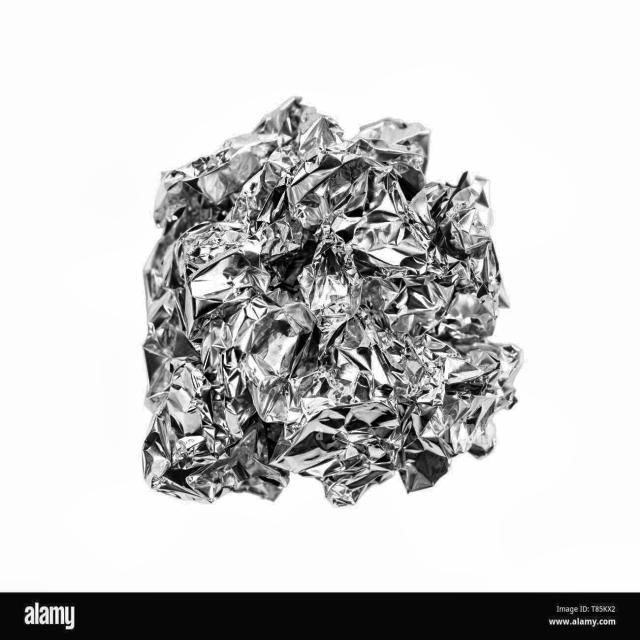Foil: (112, 81, 550, 532)
